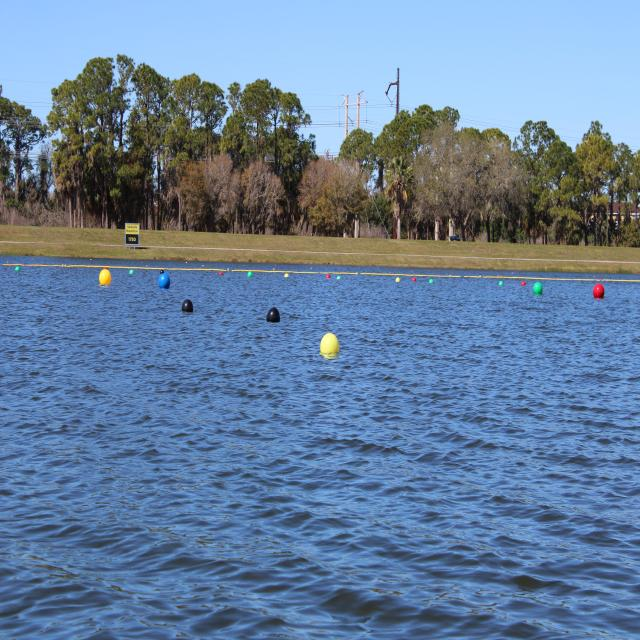black-buoy: (267, 308, 281, 324), (184, 296, 196, 313)
blue-buoy: (157, 273, 170, 291)
green-buoy: (533, 282, 543, 296), (248, 272, 254, 280), (14, 268, 20, 274)
red-buoy: (591, 283, 603, 300), (522, 281, 527, 287)
yellow-buoy: (322, 334, 343, 360), (98, 270, 110, 288)
